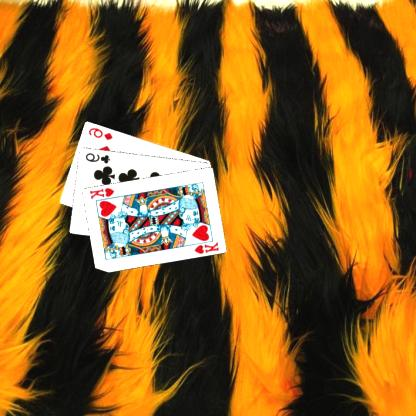6D: (88, 125, 116, 141)
9C: (84, 150, 112, 164)
KH: (194, 239, 222, 255), (89, 185, 117, 200)
